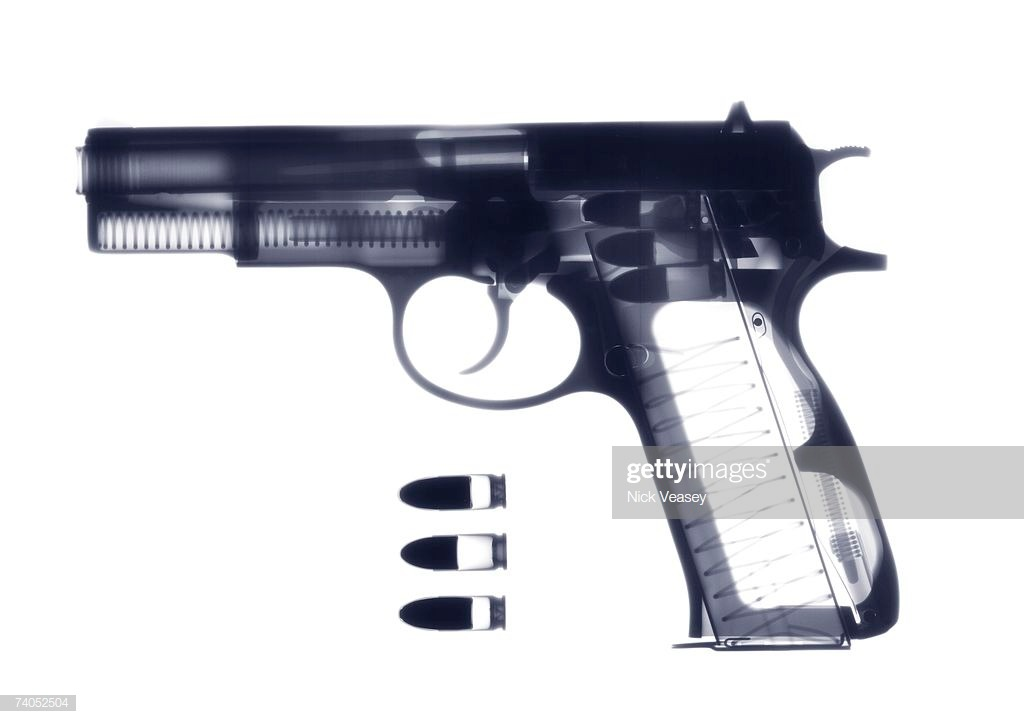bullet: (392, 468, 518, 515), (389, 592, 515, 637), (389, 531, 514, 573)
gun: (72, 98, 935, 667)
